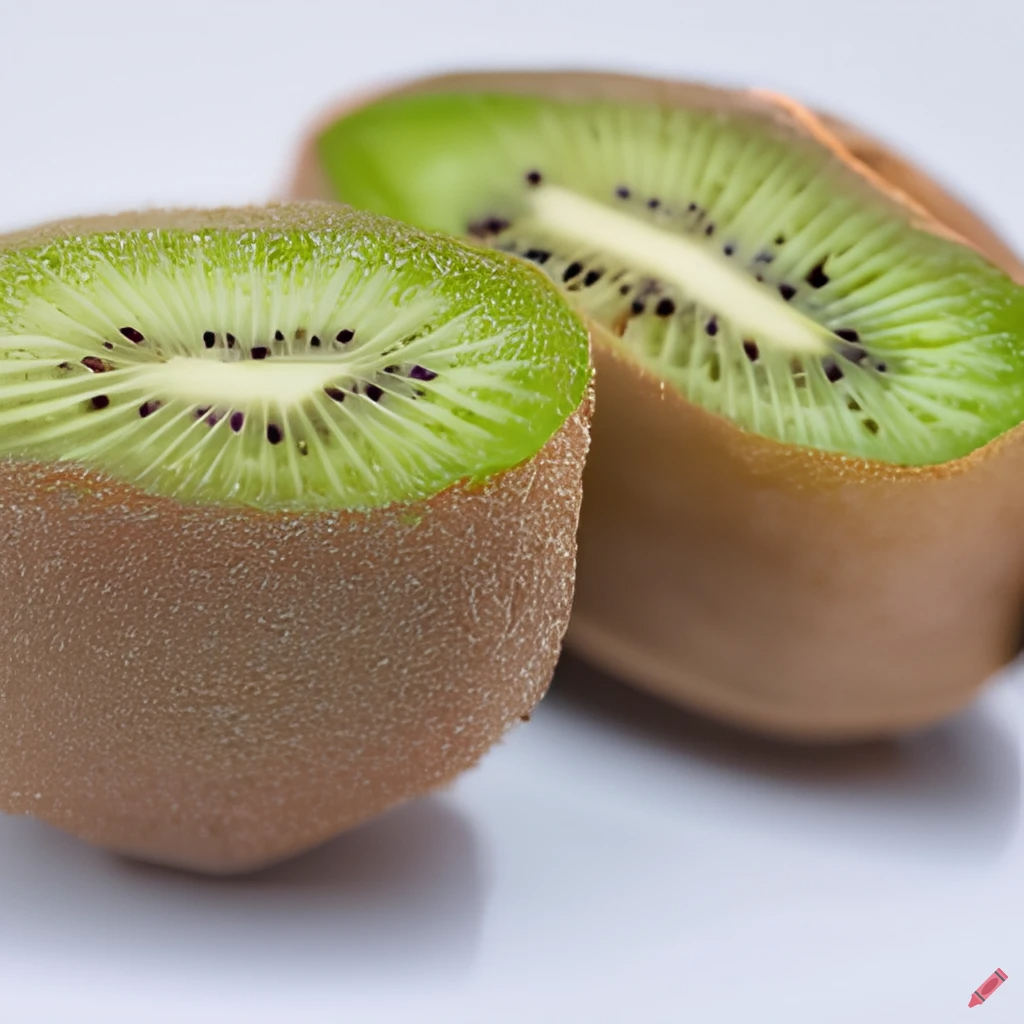Kiwi: (0, 186, 646, 910)
